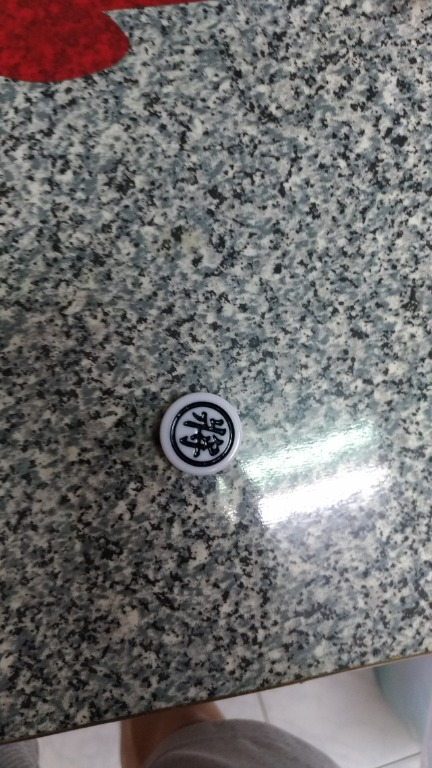b-king: (152, 384, 254, 490)
